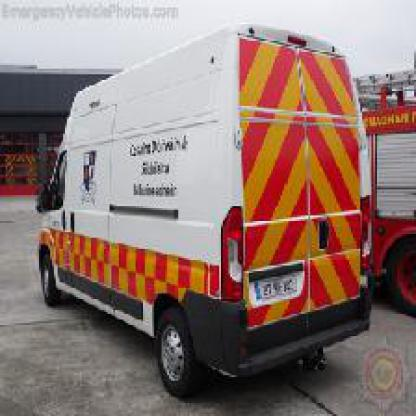emergency: (35, 35, 374, 409)
